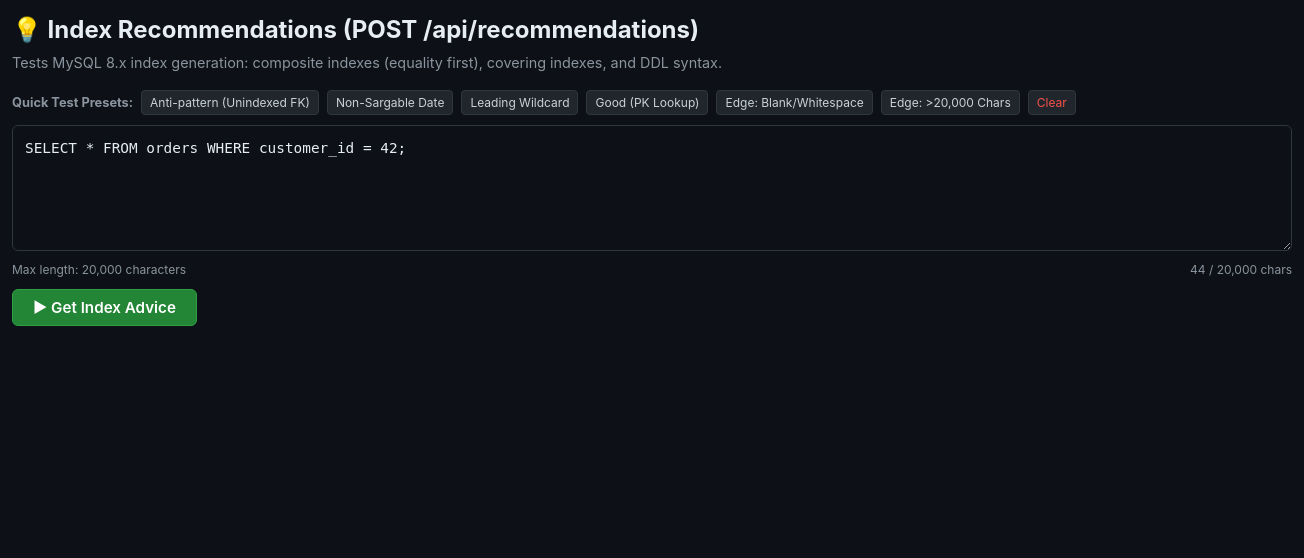
Test case: RecommendationsPage Component › renders empty state when no recommendations are required
Step 1. Click the button "▶ Get Index Advice" → point(104, 308), box [12,289,197,326]
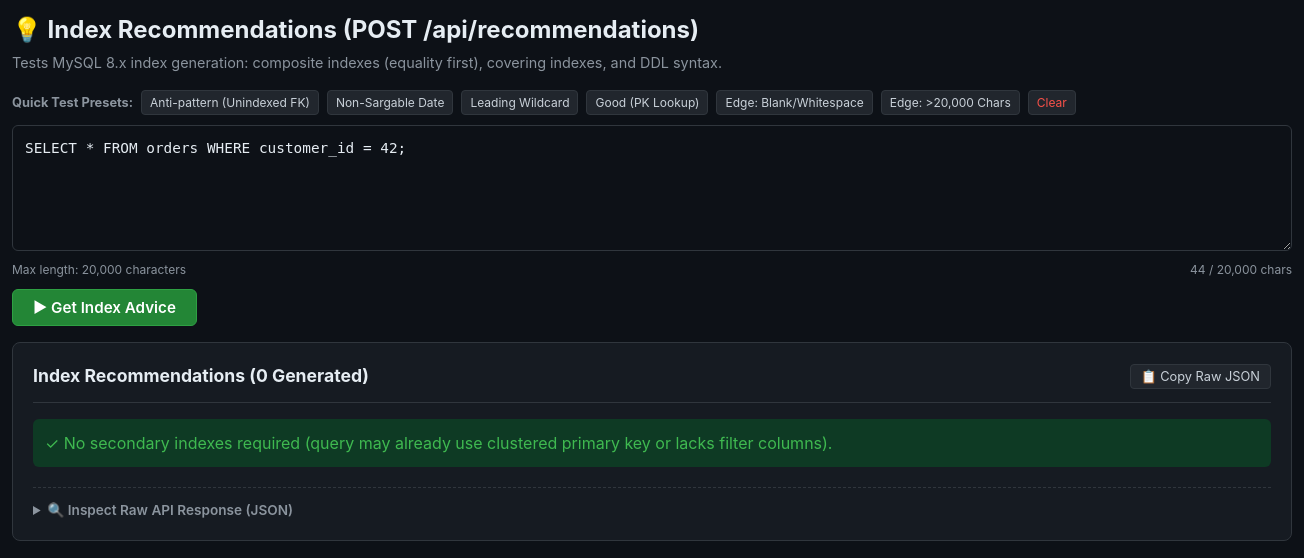
Result: the text "No secondary indexes required" is shown at [45,433,832,453]
